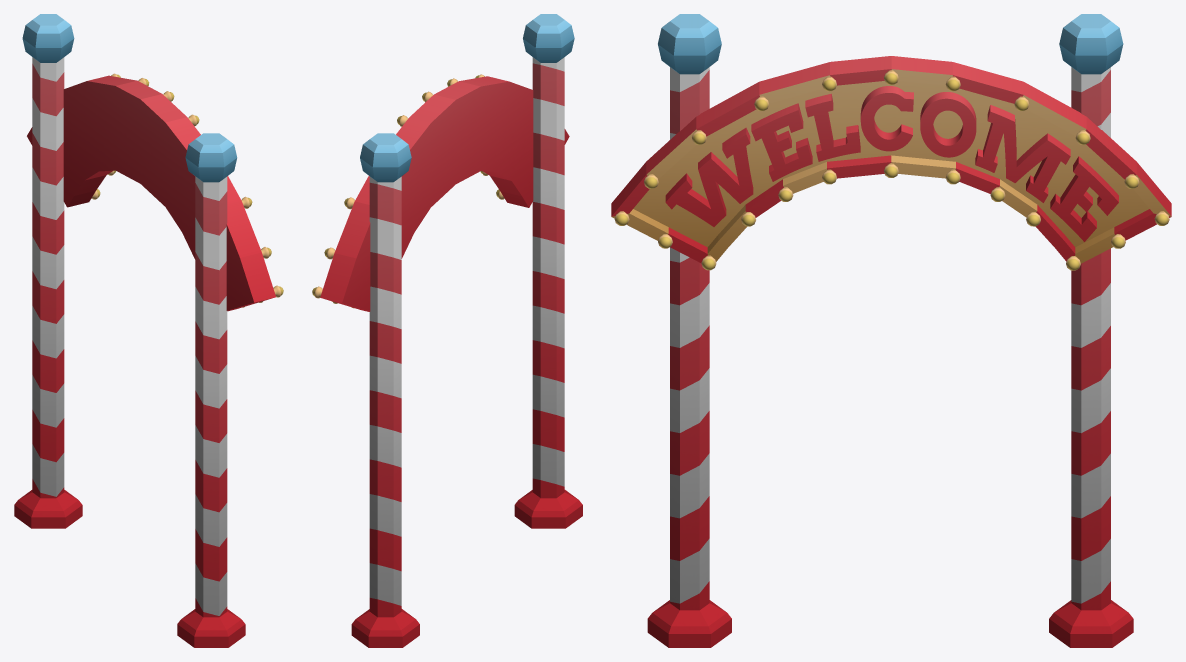
The model's file is welcome_pole.fbx.
The picture shows the model from 3 angles, left to right: view 1: azimuth 30°, elevation 25°; view 2: azimuth 150°, elevation 25°; view 3: azimuth 270°, elevation 25°; orthographic projection. The views are drawn at different scales.
Parts seen in each view (by area): view 1: welcome_pole; view 2: welcome_pole; view 3: welcome_pole.
Boxes of the visible parts, <box> form: welcome_pole: <box>14,14,283,647</box>; welcome_pole: <box>312,14,582,647</box>; welcome_pole: <box>611,14,1171,647</box>.
Size of the model in its own units: 38.91 by 264 by 220.
